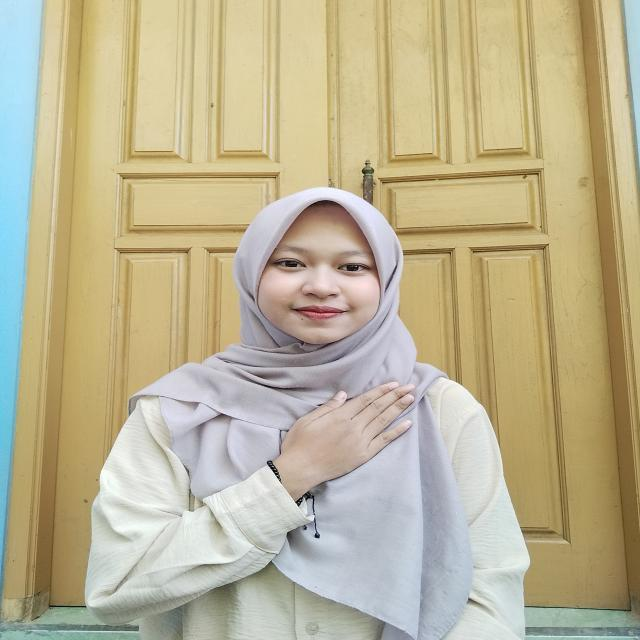tolong: (231, 375, 428, 534)
